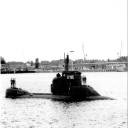submarine: (6, 71, 119, 103)
